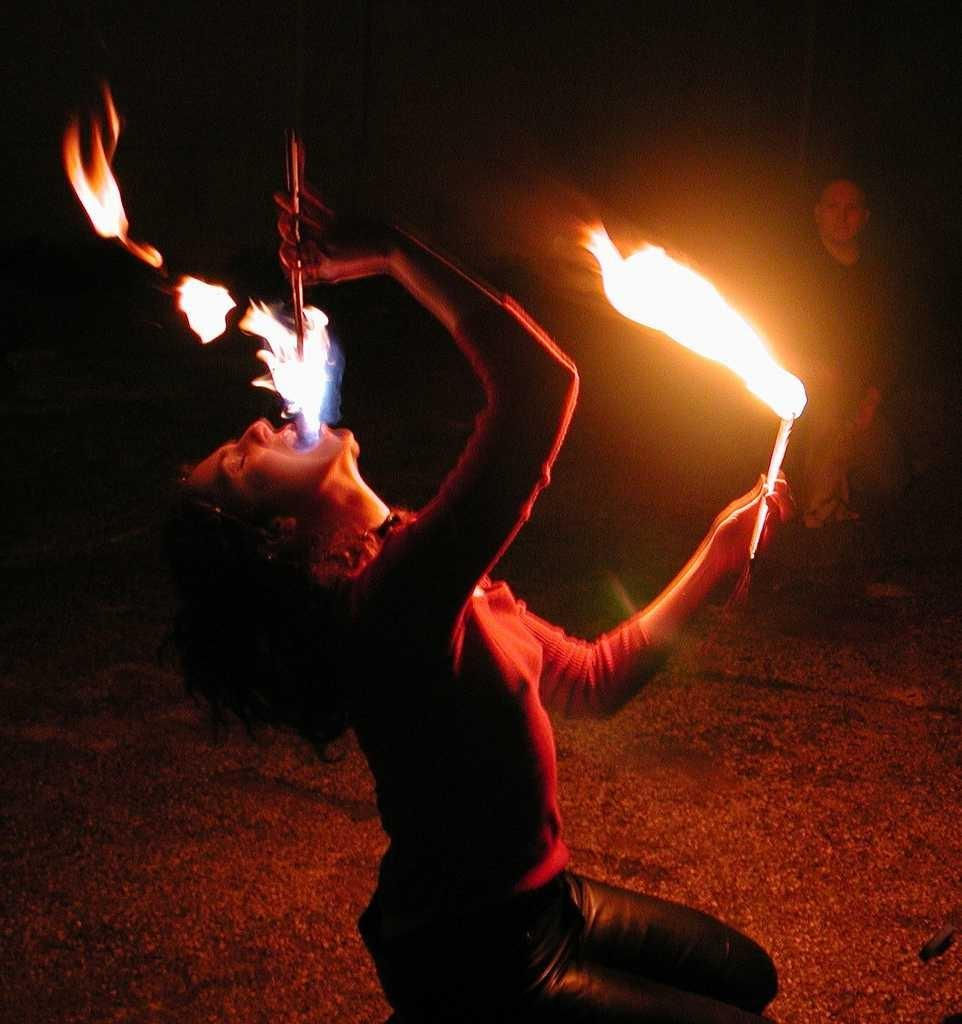fire: (613, 254, 716, 325), (277, 322, 332, 422), (82, 161, 127, 230), (184, 280, 233, 335), (753, 373, 808, 410)
